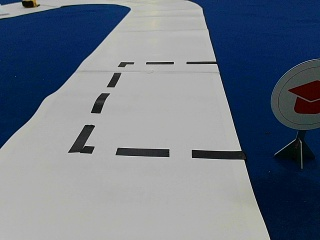school: (271, 59, 319, 130)
